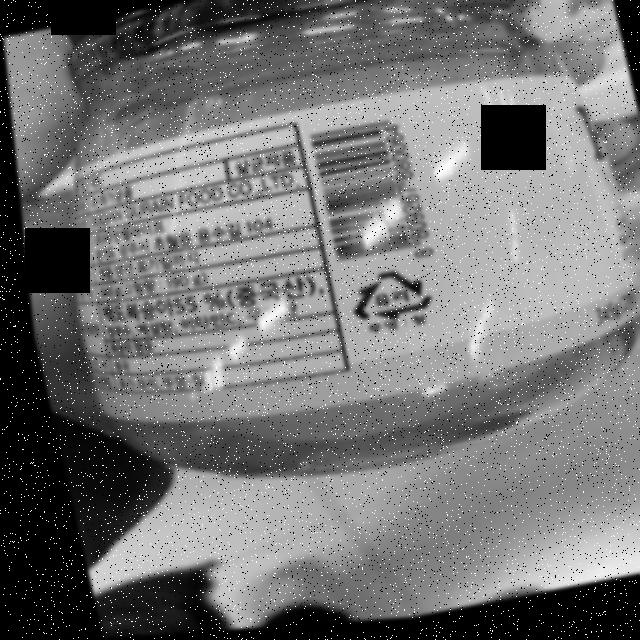Glass: (337, 268, 431, 331)
